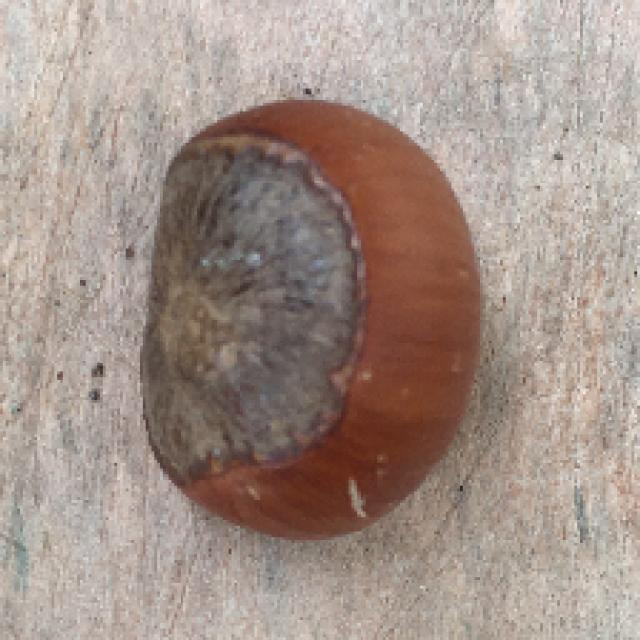DamagedHazelnut: (141, 100, 481, 545)
